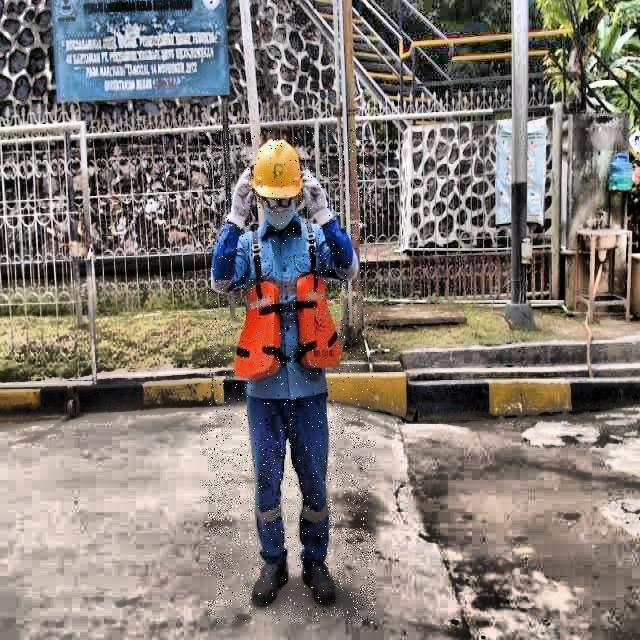safety_helmet: (251, 136, 304, 199)
safety_jacket: (234, 281, 345, 377)
